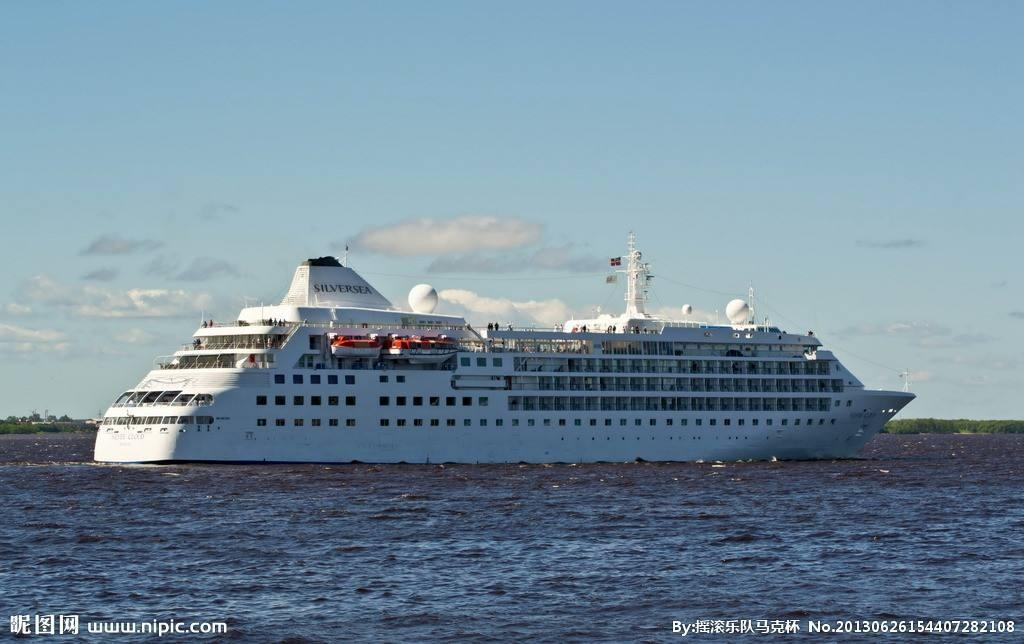youlun: (101, 249, 923, 462)
